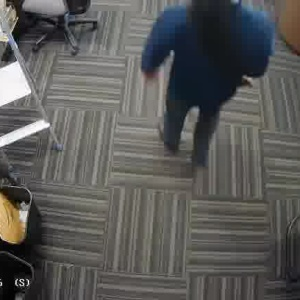person: (162, 0, 266, 171)
